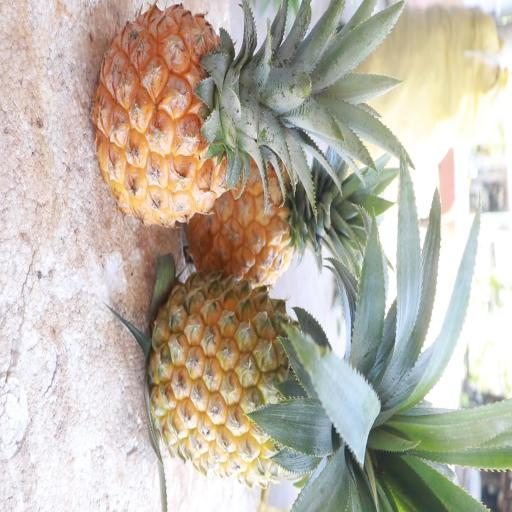Pineapple - v8 v1: (144, 273, 395, 489), (87, 0, 307, 228), (184, 130, 348, 284)
